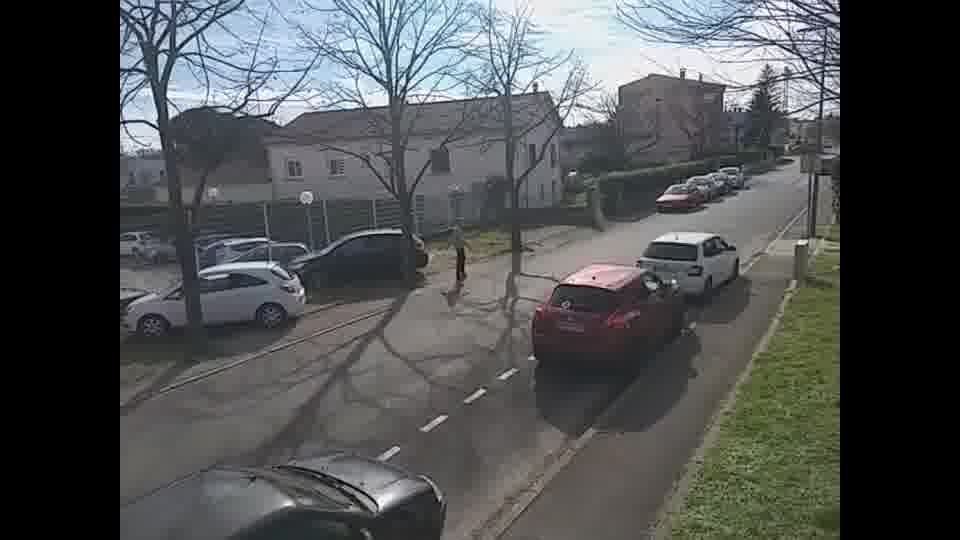jugador: (444, 209, 475, 286)
